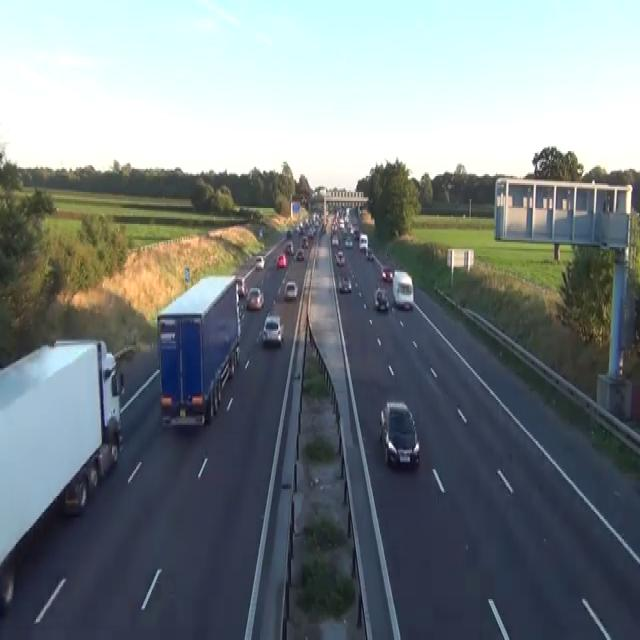Car: (379, 400, 420, 469), (262, 315, 283, 345), (246, 286, 264, 310), (374, 286, 389, 311), (283, 279, 297, 299), (338, 276, 351, 294), (236, 277, 247, 297), (381, 265, 393, 281), (335, 249, 345, 265), (237, 300, 245, 320), (276, 252, 287, 266), (284, 240, 294, 254), (255, 254, 264, 268), (365, 247, 373, 260), (331, 233, 339, 245), (352, 226, 360, 238), (344, 237, 353, 247), (295, 249, 304, 259), (301, 237, 308, 247), (300, 196, 307, 204), (339, 217, 344, 227), (286, 230, 292, 238), (258, 228, 262, 238)
Truck: (0, 336, 124, 608), (156, 274, 240, 428), (392, 270, 413, 310)
